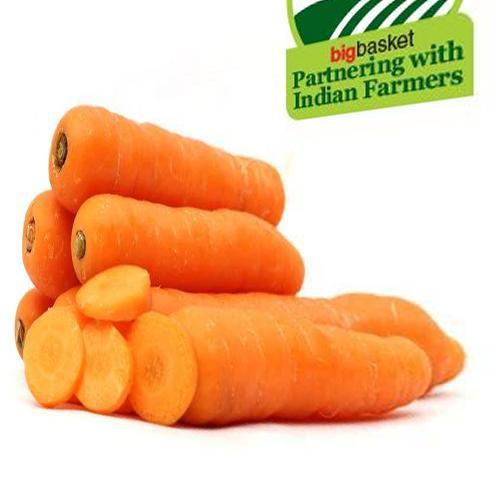carrot: (19, 108, 462, 421), (28, 103, 333, 234), (61, 181, 318, 307)
